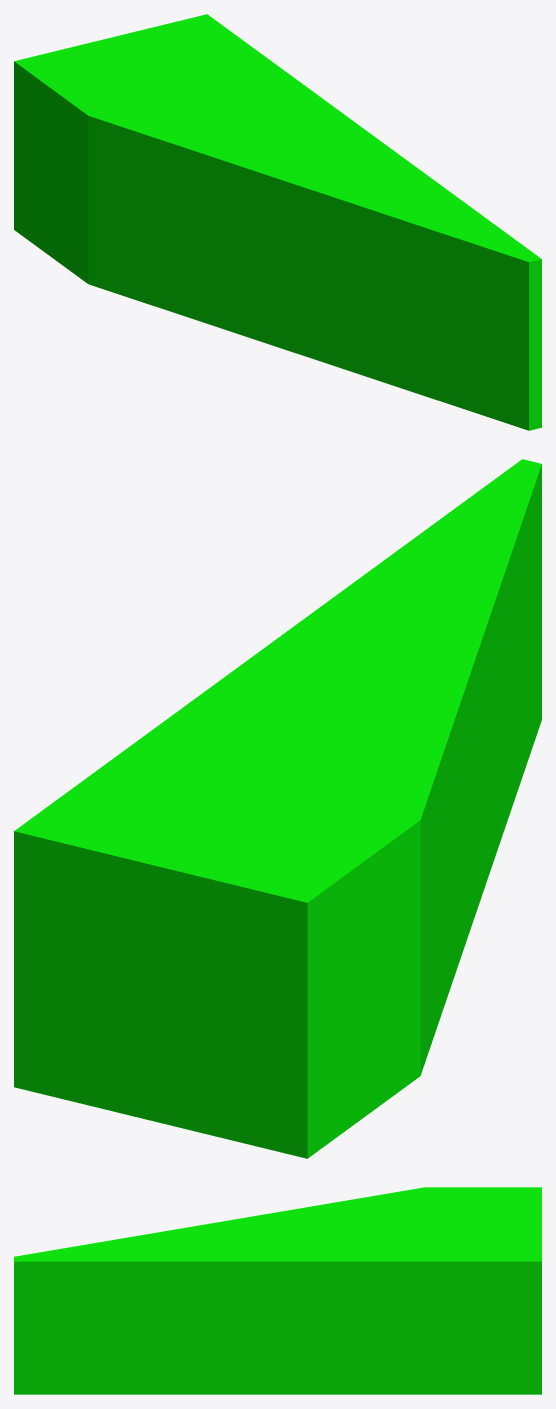
File: SpreaderEndR.dae
3 renders of one model, top to bottom at view 1: azimuth 30°, elevation 25°; view 2: azimuth 150°, elevation 25°; view 3: azimuth 270°, elevation 25°, orthographic. The views are drawn at different scales.
Visible parts, largest first — view 1: group_2; view 2: group_2; view 3: group_2.
Boxes of the visible parts, box(x1,y1,x2,y2) form: group_2: box(14, 14, 541, 430); group_2: box(14, 459, 541, 1158); group_2: box(14, 1187, 541, 1394).
Size of the model in its own units: 2.36 by 7.09 by 1.97.
